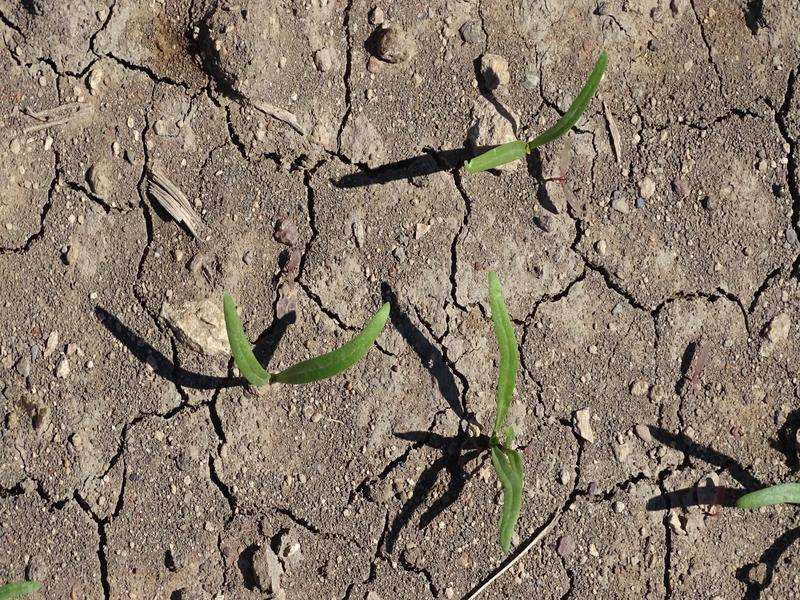Espinaca: (469, 59, 612, 178), (207, 301, 397, 384), (485, 274, 534, 544), (732, 482, 800, 508)
